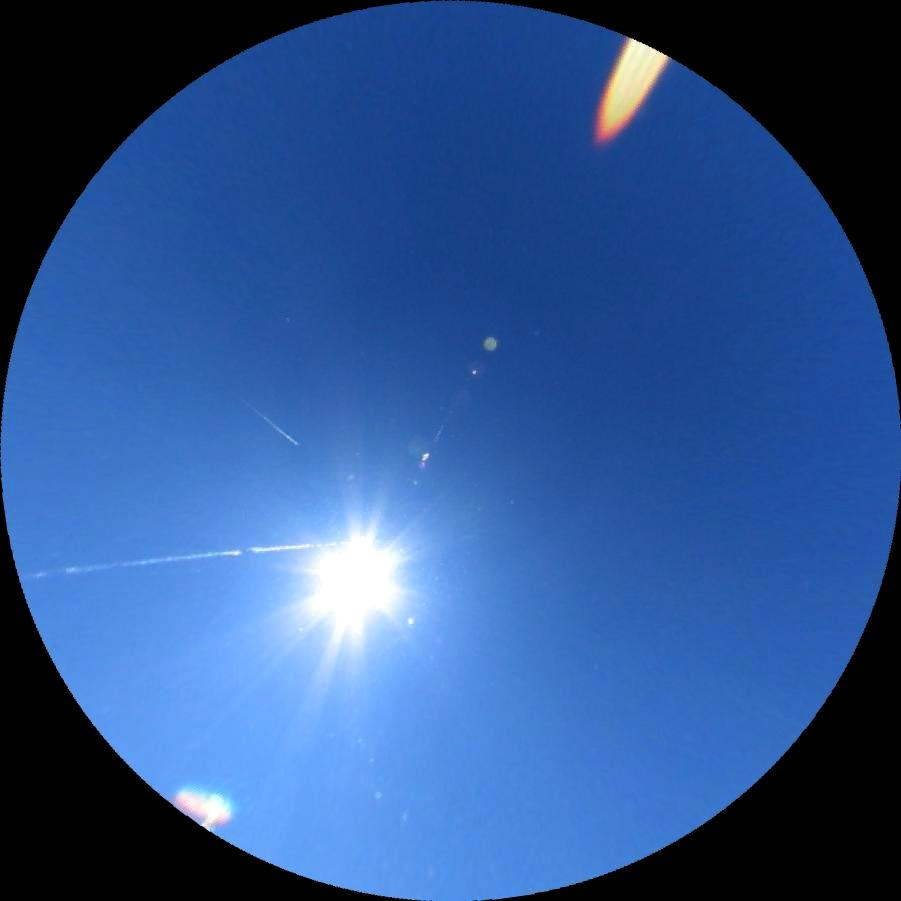contrail young: (233, 392, 298, 447)
parasite: (19, 536, 336, 578)
sun: (285, 515, 423, 648)
